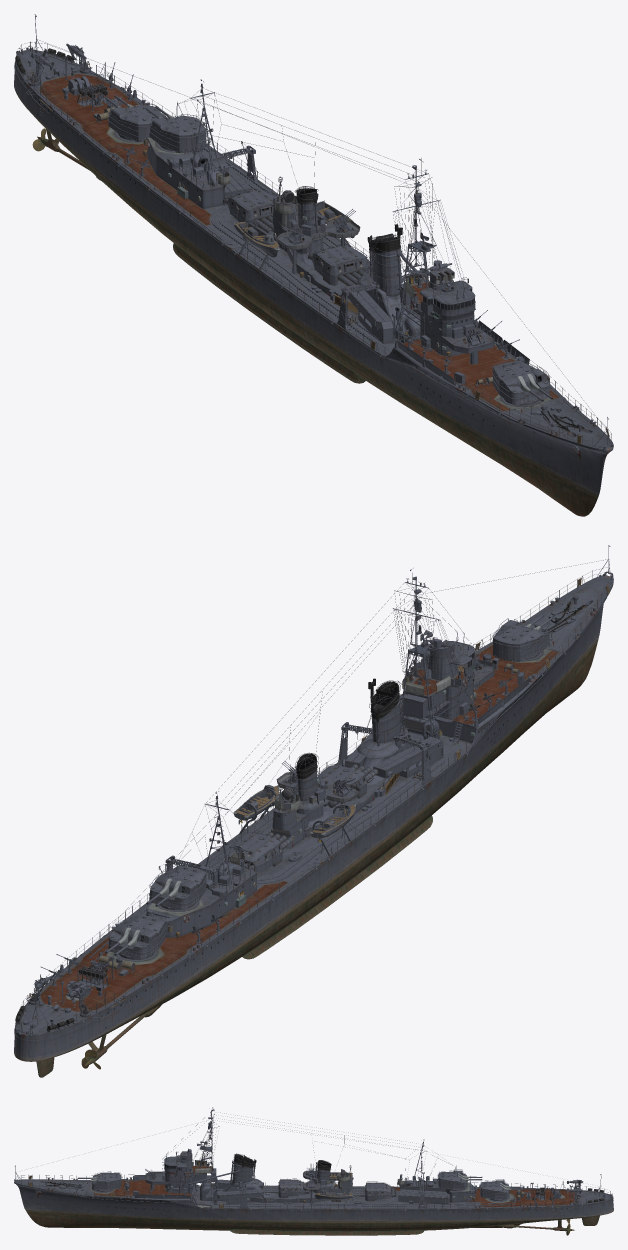
Rendered from yukikaze.glb.
3 renders of one model, top to bottom at view 1: azimuth 30°, elevation 25°; view 2: azimuth 150°, elevation 25°; view 3: azimuth 270°, elevation 25°, orthographic. The views are drawn at different scales.
Parts seen in each view (by area): view 1: MidFrontShape, MidBackShape, MidFront_wireShape, TurretShape1, MidFront_patch_MidBackShape, TurretShape3, GunShape, TurretShape5, GunShape1, MidBack_wireShape, JM0Shape38, MidFront_patch_MidBack_wireShape; view 2: MidFrontShape, MidBackShape, MidFront_wireShape, MidFront_patch_MidBackShape, TurretShape5, TurretShape3, TurretShape1, GunShape1, JM0Shape38, MidBack_wireShape, GunShape, MidFront_patch_MidBack_wireShape; view 3: MidFrontShape, MidBackShape, MidFront_patch_MidBackShape, MidFront_wireShape, GunShape1, TurretShape3, GunShape, TurretShape5, TurretShape1, MidBack_wireShape, JM0Shape38, MidFront_patch_MidBack_wireShape.
Boxes of the visible parts, x1,y1,x2,y2 form: MidFrontShape: (229,159,613,516); MidBackShape: (14,14,297,285); MidFront_wireShape: (241,158,611,446); TurretShape1: (490,358,552,405); MidFront_patch_MidBackShape: (210,212,298,306); TurretShape3: (146,106,208,154); GunShape: (307,244,369,286); TurretShape5: (105,95,166,142); GunShape1: (223,189,276,233); MidBack_wireShape: (16,15,279,217); JM0Shape38: (233,202,354,257); MidFront_patch_MidBack_wireShape: (191,93,427,218); MidFrontShape: (227,545,613,908); MidBackShape: (14,791,312,1077); MidFront_wireShape: (241,559,611,857); MidFront_patch_MidBackShape: (211,834,331,928); TurretShape5: (105,912,167,959); TurretShape3: (146,863,208,910); TurretShape1: (490,614,552,663); GunShape1: (228,832,293,870); JM0Shape38: (233,785,355,843); MidBack_wireShape: (16,794,279,1032); GunShape: (317,764,378,807); MidFront_patch_MidBack_wireShape: (206,583,428,860); MidFrontShape: (14,1107,363,1235); MidBackShape: (363,1139,613,1235); MidFront_patch_MidBackShape: (346,1186,374,1235); MidFront_wireShape: (19,1112,352,1208); GunShape1: (350,1181,395,1201); TurretShape3: (437,1169,482,1189); GunShape: (263,1178,309,1197); TurretShape5: (479,1179,523,1199); TurretShape1: (77,1171,122,1190); MidBack_wireShape: (397,1149,612,1214); JM0Shape38: (313,1172,353,1199); MidFront_patch_MidBack_wireShape: (214,1112,422,1176).
Bounding box in the file's own units: 13.15 × 30.79 × 136.
50 materials, 50 textured.
